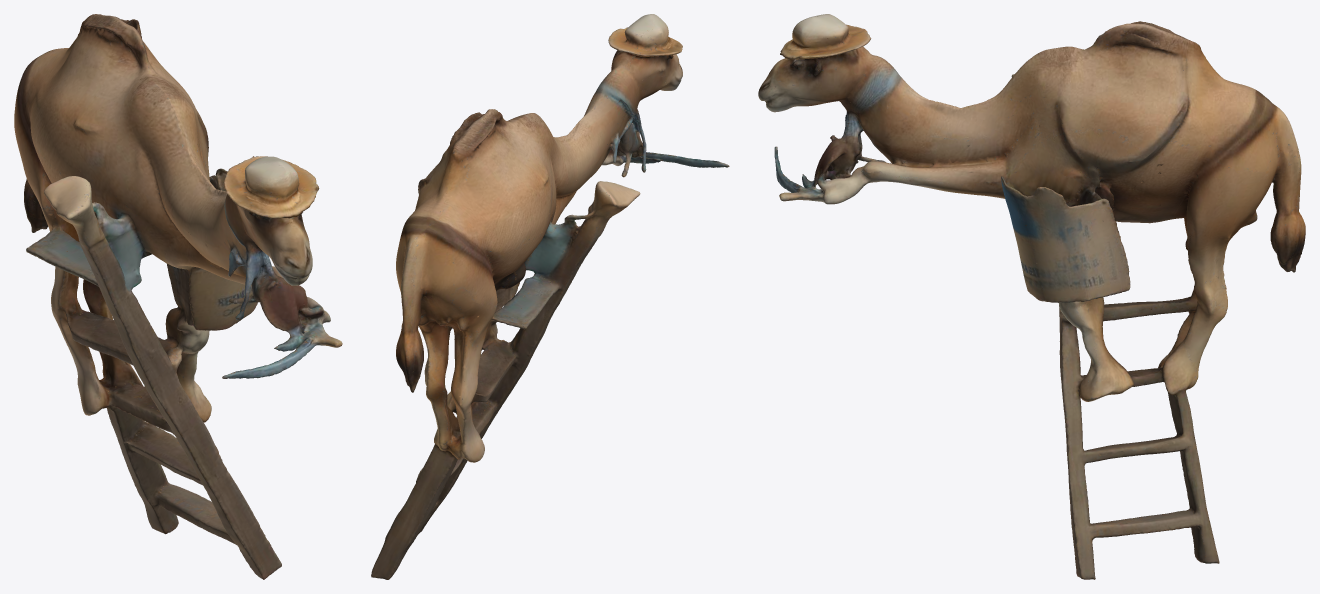
File: camel2.glb
The picture shows the model from 3 angles, left to right: view 1: azimuth 30°, elevation 25°; view 2: azimuth 150°, elevation 25°; view 3: azimuth 270°, elevation 25°; orthographic projection. The views are drawn at different scales.
Visible parts, largest first — view 1: Mesh_0; view 2: Mesh_0; view 3: Mesh_0.
Part boxes in pixels (x1,y1,x2,y2): Mesh_0: [14, 14, 342, 579]; Mesh_0: [371, 14, 729, 579]; Mesh_0: [758, 14, 1305, 579].
Size of the model in its own units: 0.6636 by 1.4 by 1.38.
1 material, 1 textured.
